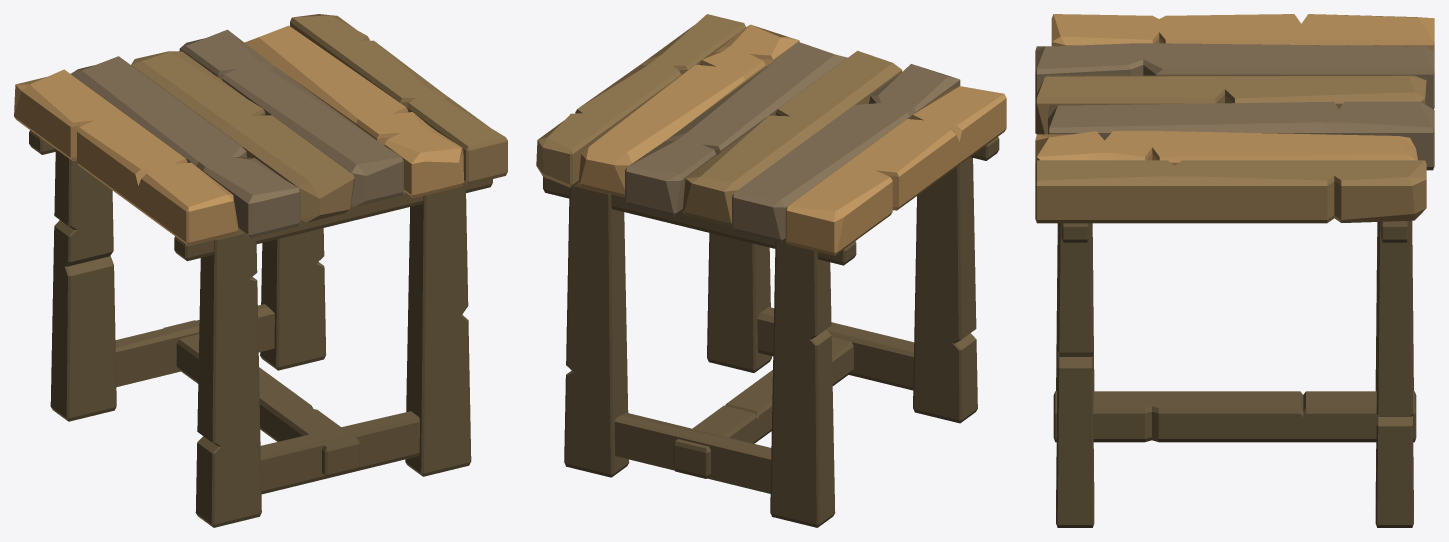
File: Broken_Chair.fbx
3 renders of one model, left to right at view 1: azimuth 30°, elevation 25°; view 2: azimuth 150°, elevation 25°; view 3: azimuth 270°, elevation 25°, orthographic. The views are drawn at different scales.
Parts seen in each view (by area): view 1: Silla_Rota; view 2: Silla_Rota; view 3: Silla_Rota.
Part boxes in pixels (<box>): Silla_Rota: <box>14,14,507,527</box>; Silla_Rota: <box>536,14,1006,527</box>; Silla_Rota: <box>1035,14,1434,527</box>.
Size of the model in its own units: 100 by 100 by 100.
